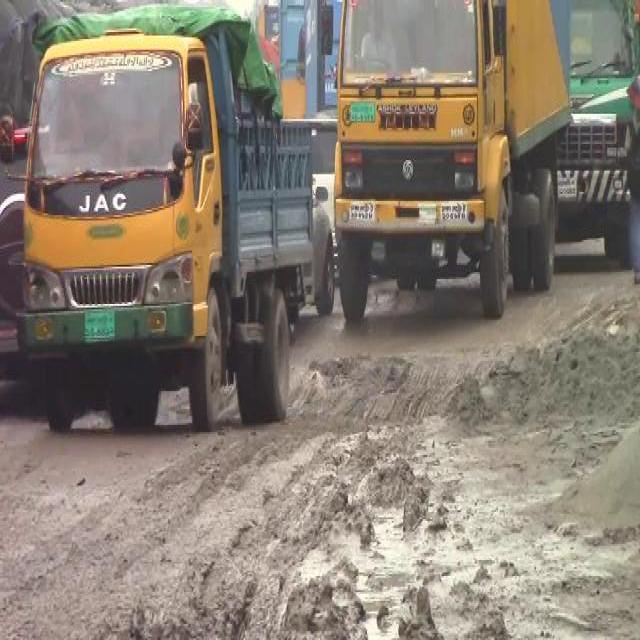car: (313, 186, 331, 312)
truck: (23, 3, 310, 431), (332, 0, 568, 318), (570, 4, 630, 266)
